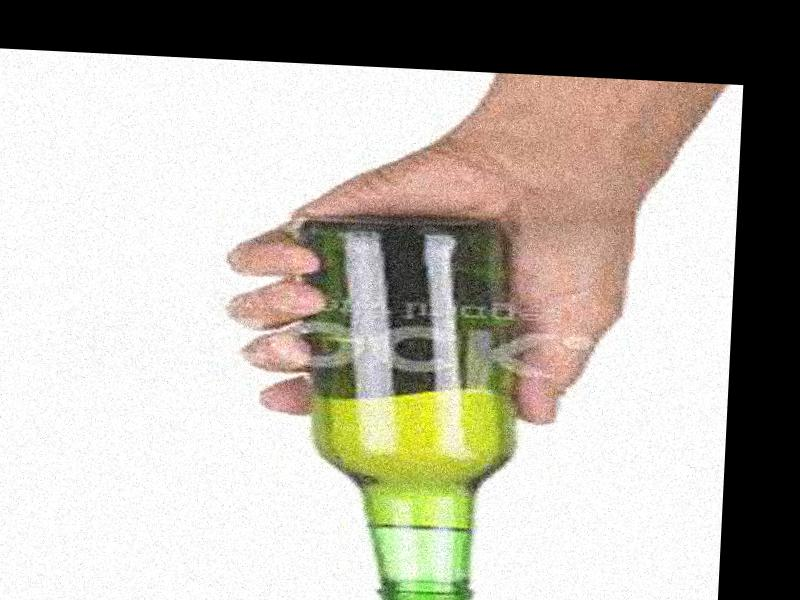Beer: (292, 213, 531, 600)
